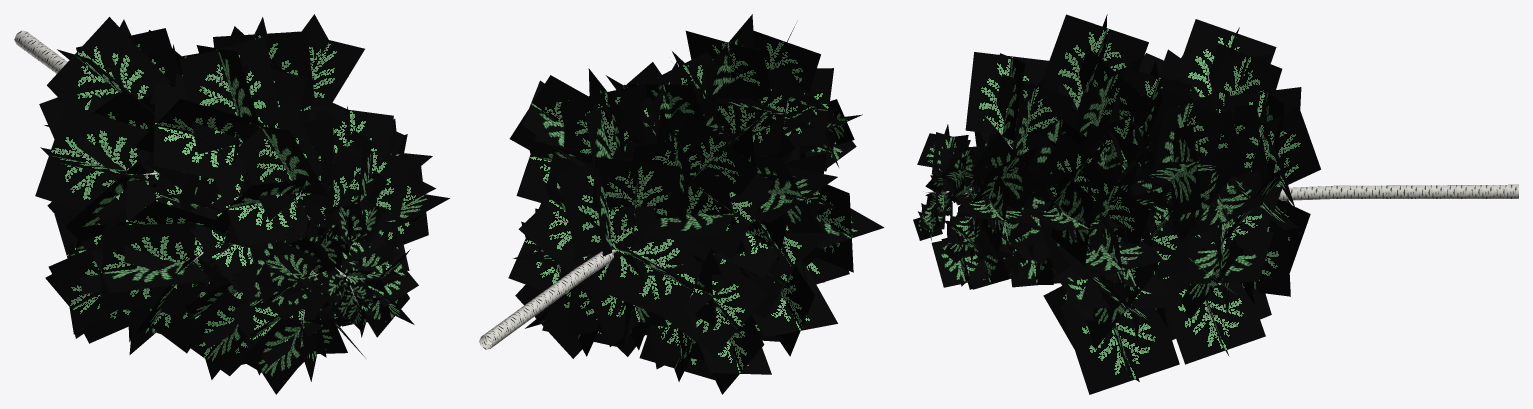
The model's file is birch01.glb.
3 views of the same model, side by side, from view 1: azimuth 30°, elevation 25°; view 2: azimuth 150°, elevation 25°; view 3: azimuth 270°, elevation 25° (orthographic). The views are drawn at different scales.
Visible parts, largest first — view 1: birch01.001; view 2: birch01.001; view 3: birch01.001.
Part boxes in pixels (x1,y1,x2,y2): birch01.001: (14,14,449,394); birch01.001: (479,14,884,394); birch01.001: (913,14,1518,394).
Size of the model in its own units: 7.36 by 7.37 by 12.39.
2 materials, 2 textured.
